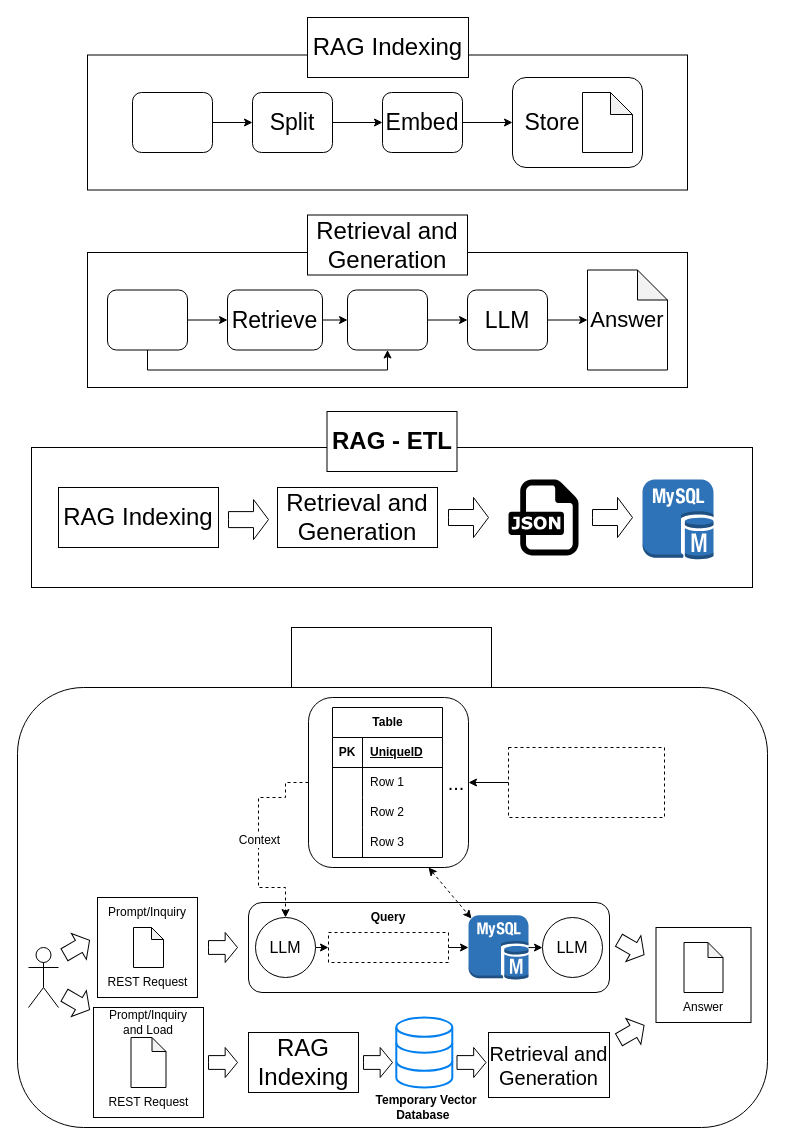
The diagram is 785 pixels wide and 1145 high, and some of its shapes have lost their labels. Here are the shapes that lost their labels. From the top down, the centre of each, then its label:
At point (172, 122): "Load".
At point (147, 319): "Inquiry".
At point (387, 319): "Prompt".
At point (391, 657): "SQL Agent + RAG".
At point (586, 782): "SHOW TABLE; SHOW CREATE TABLE ...".
At point (388, 947): "select * from...".
At point (43, 977): "User".
